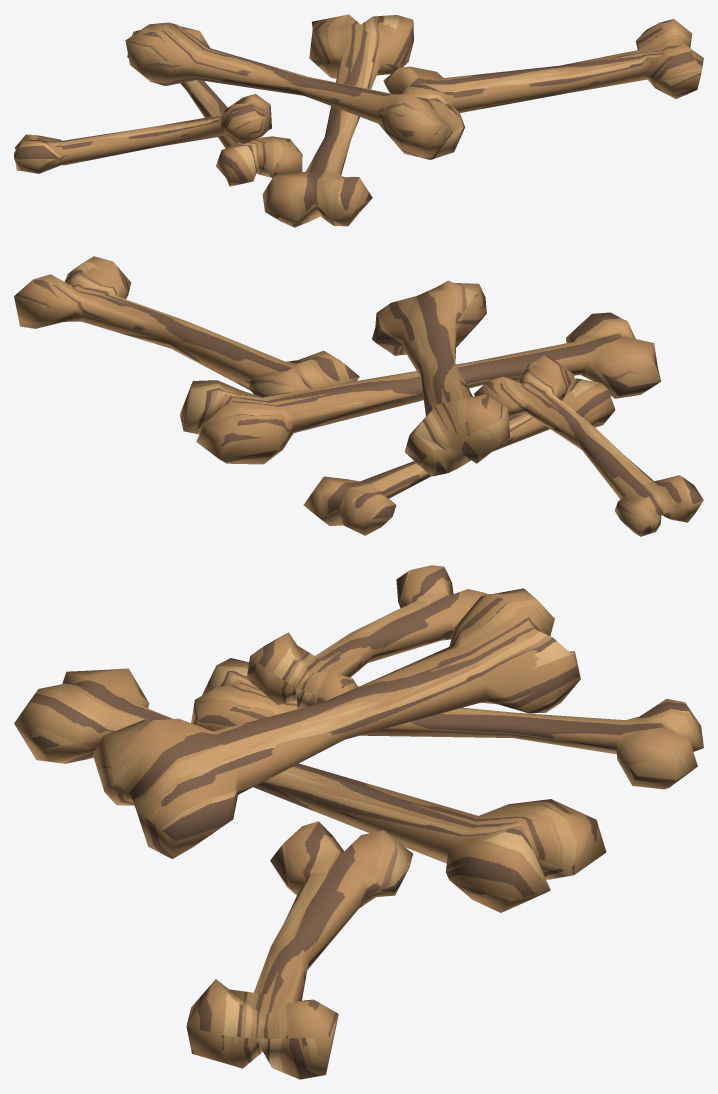
The model's file is SM_PROP_skeleton_bone_pile_dungeon.fbx.
The picture shows the model from 3 angles, top to bottom: view 1: azimuth 30°, elevation 25°; view 2: azimuth 150°, elevation 25°; view 3: azimuth 270°, elevation 25°; orthographic projection. The views are drawn at different scales.
Visible parts, largest first — view 1: SM_PROP_skeleton_bone_pile_dungeon; view 2: SM_PROP_skeleton_bone_pile_dungeon; view 3: SM_PROP_skeleton_bone_pile_dungeon.
Boxes of the visible parts, x1,y1,x2,y2 form: SM_PROP_skeleton_bone_pile_dungeon: (14, 14, 703, 227); SM_PROP_skeleton_bone_pile_dungeon: (14, 256, 703, 536); SM_PROP_skeleton_bone_pile_dungeon: (14, 565, 703, 1079).
Bounding box in the file's own units: 83.01 × 12.17 × 51.52.
